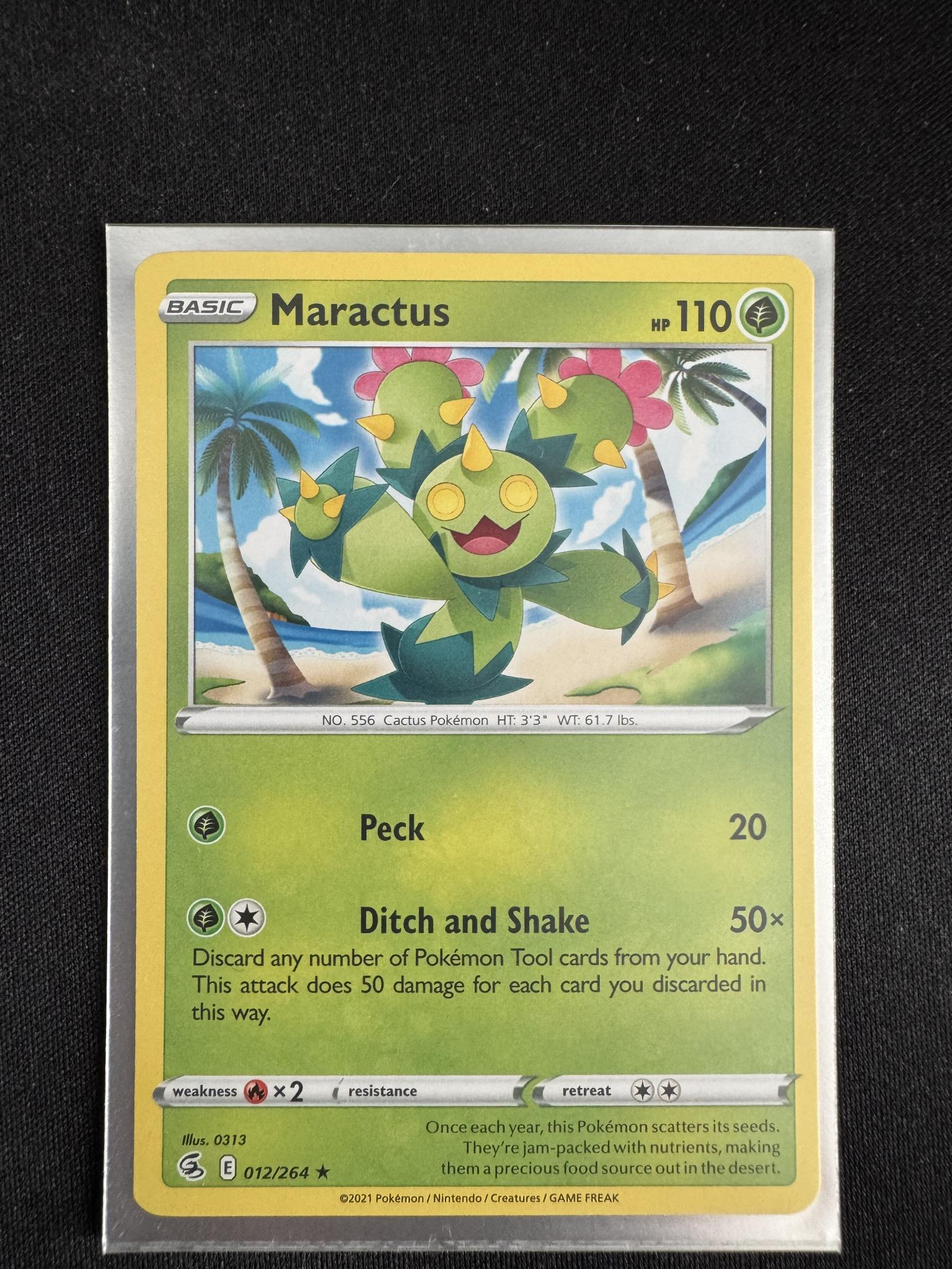card-2UtV: (133, 251, 819, 1216)
